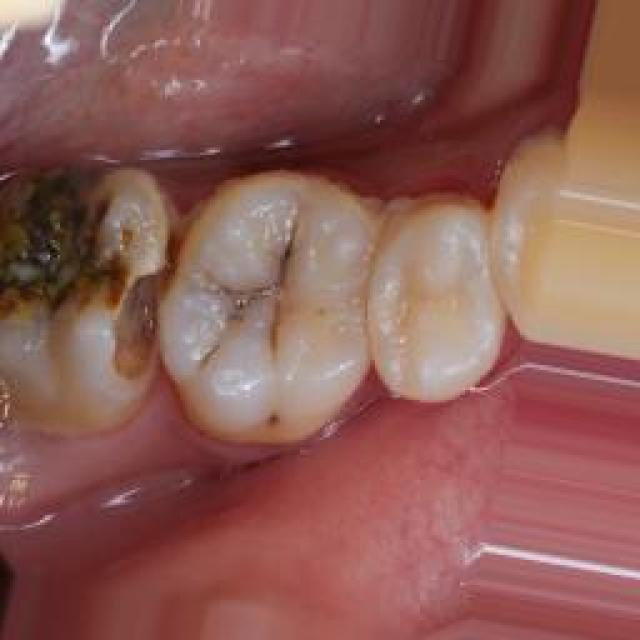caries: (3, 180, 128, 308), (210, 228, 320, 363), (118, 260, 161, 395), (265, 408, 290, 431)
